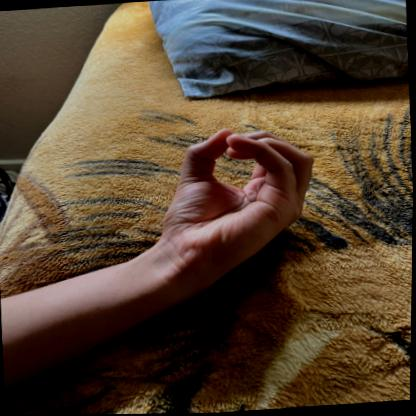O: (152, 114, 325, 268)
